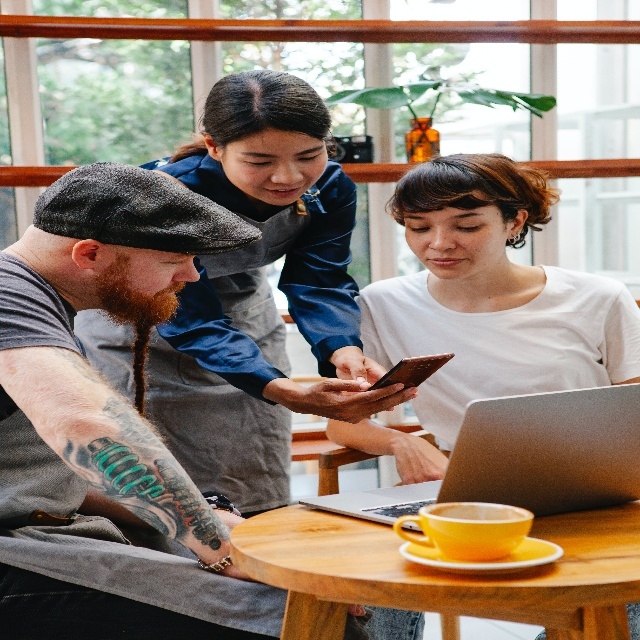Sin_guantes: (305, 377, 418, 424), (391, 433, 449, 485), (335, 350, 388, 387)
